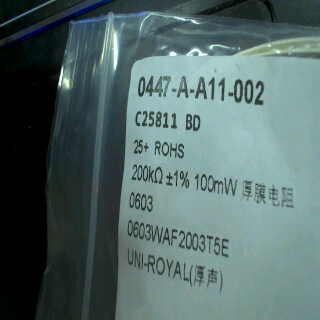200kR: (131, 163, 166, 185)
